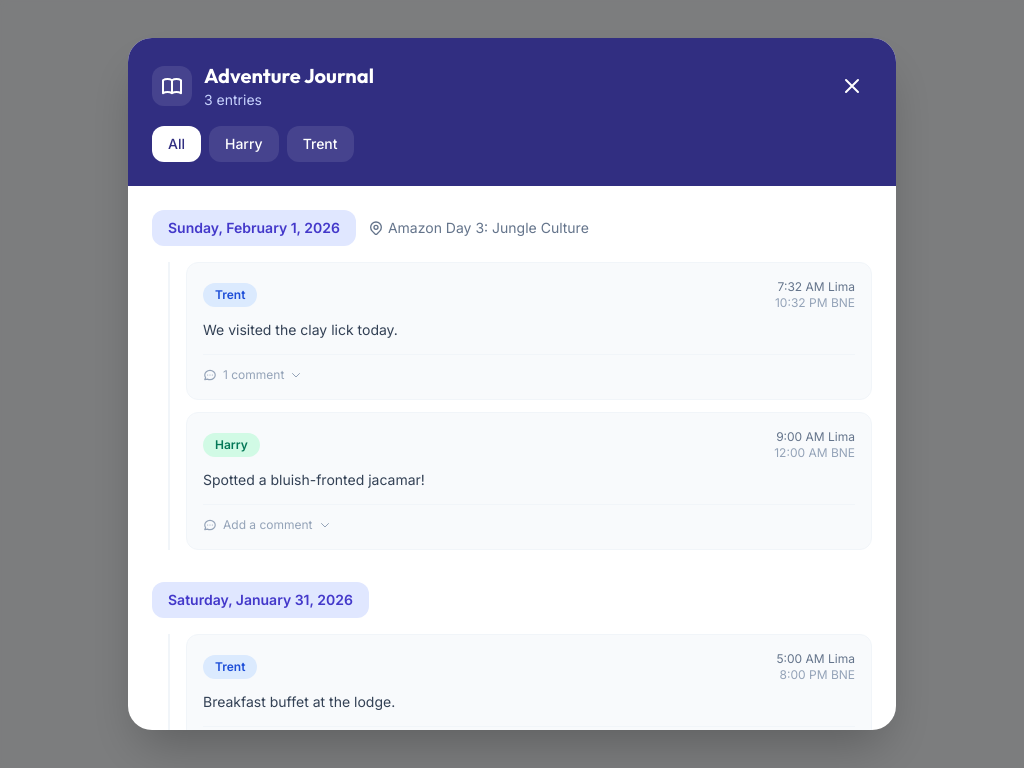
Test: JournalView — comment integration › shows existing comments when expanded
Click the button with test id "comment-toggle" showing "1 comment": x=253, y=375 top-left (203, 367), bottom-right (302, 383)
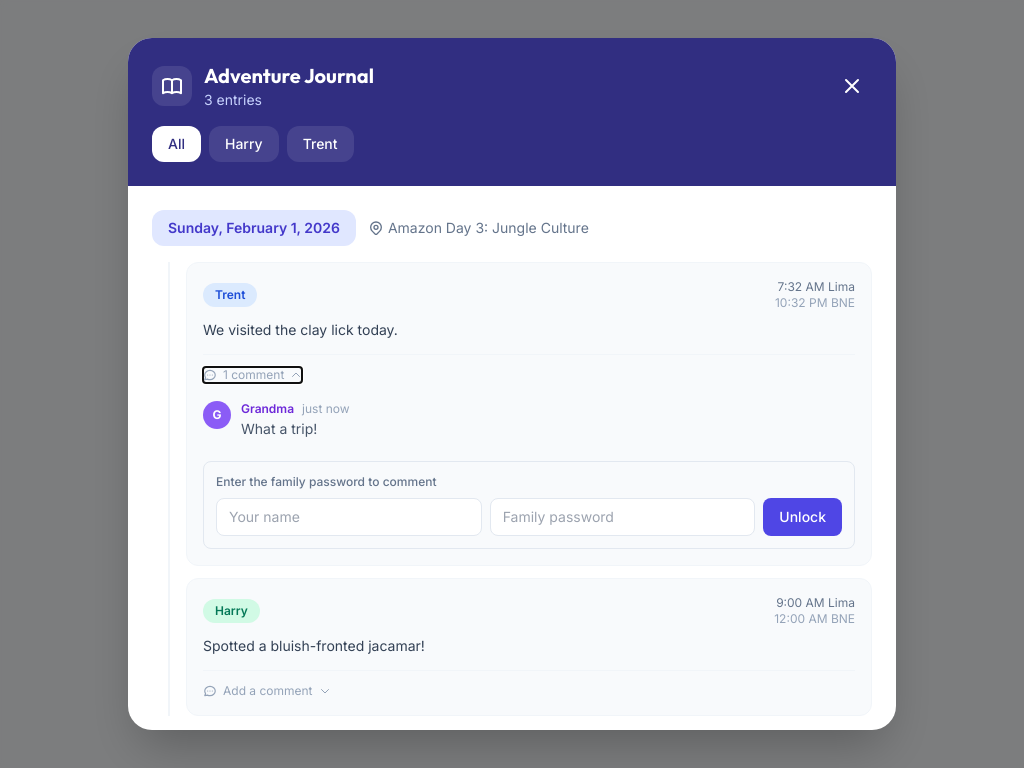
Now the text "What a trip!" is shown, box top-left (241, 420), bottom-right (317, 437)
